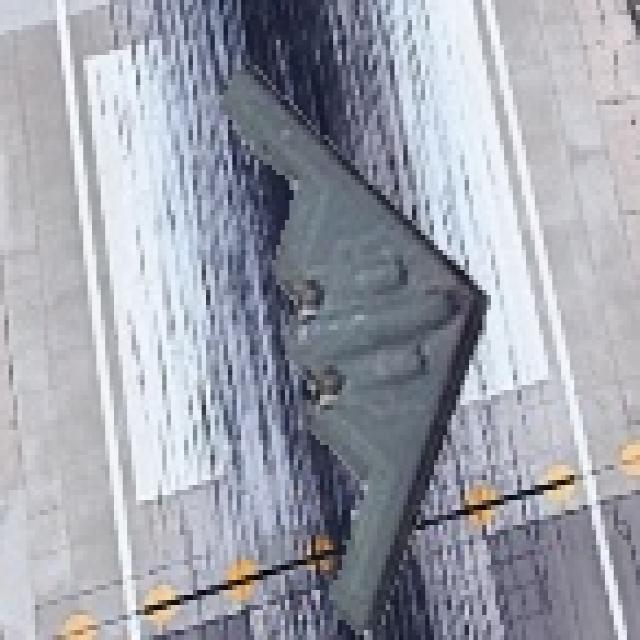B-2_TopDown: (210, 55, 491, 635)
